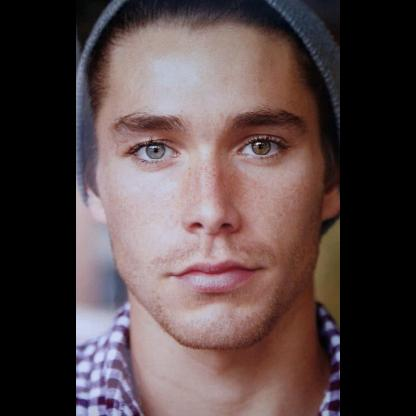Male: (81, 21, 338, 346)
